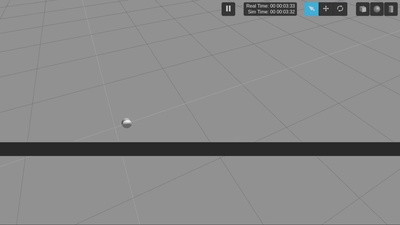mira_robot: (122, 118, 131, 127)
